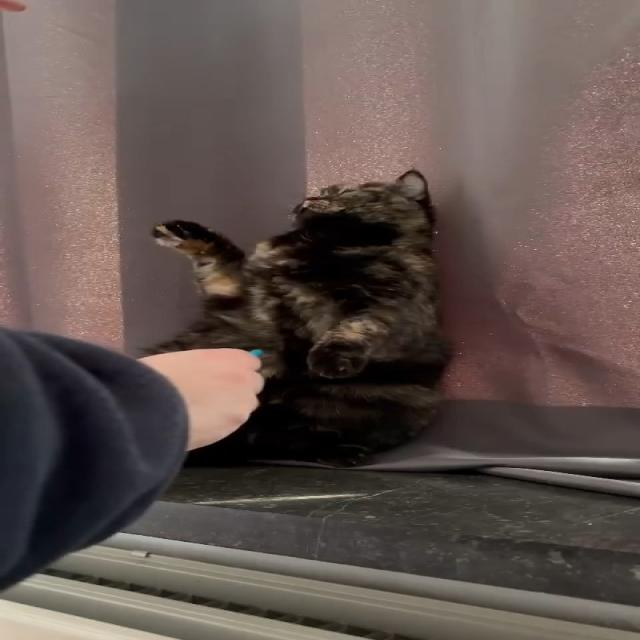authorized: (139, 168, 453, 468)
